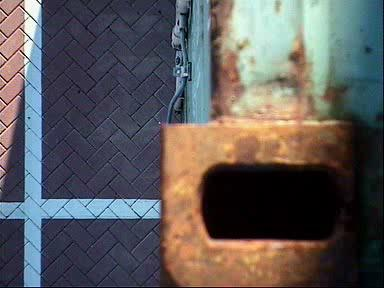groundmarker_2: (199, 1, 231, 47), (197, 172, 229, 218)
